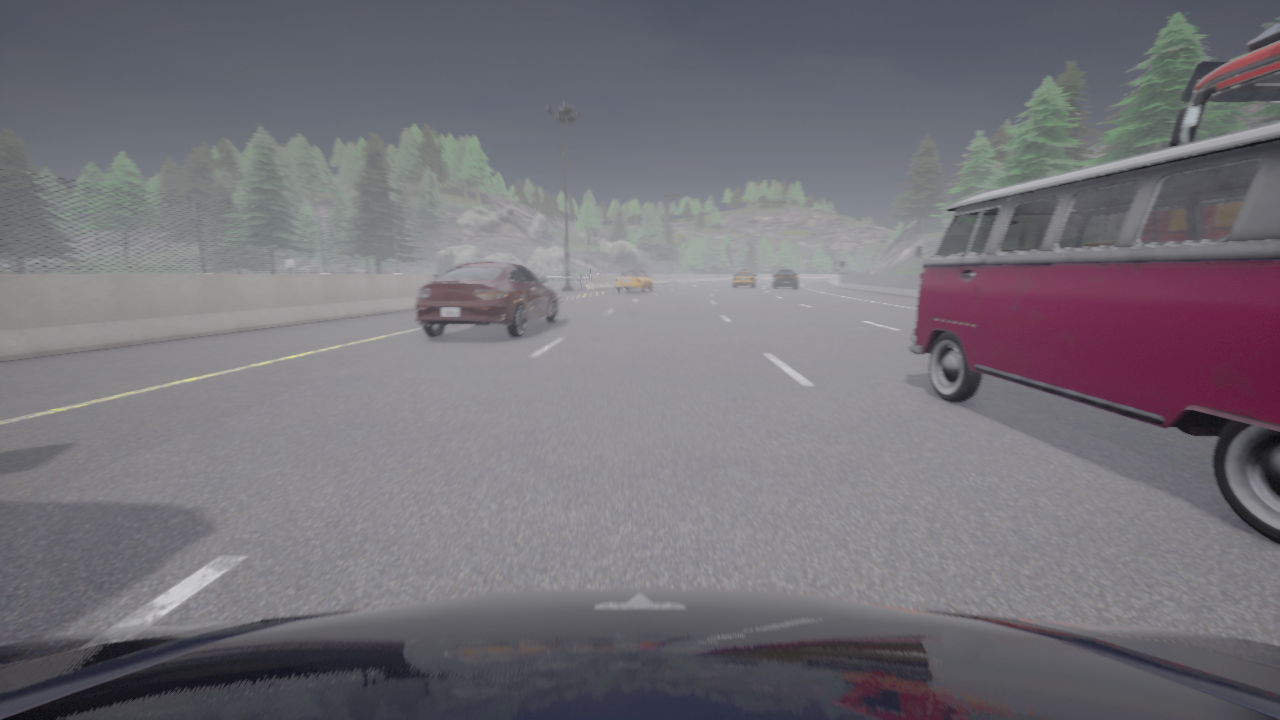cyclist: (0, 588, 1279, 719), (908, 123, 1279, 544), (1169, 23, 1279, 148), (415, 261, 563, 337), (614, 268, 652, 292), (773, 270, 797, 288), (733, 270, 755, 287)
